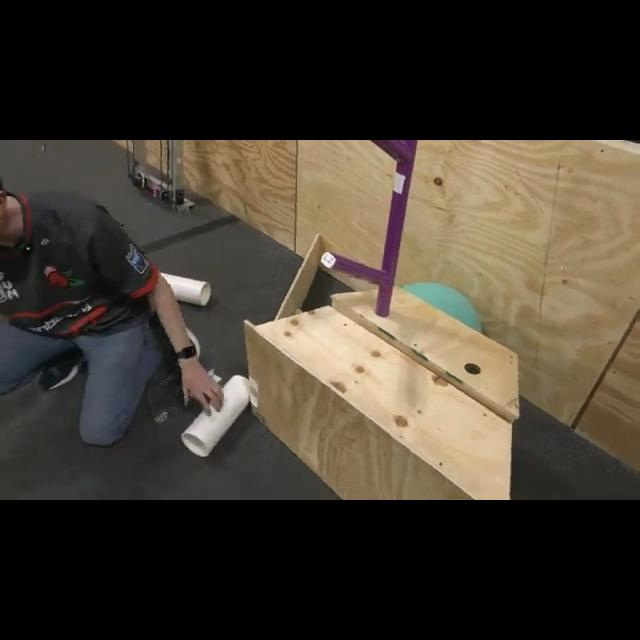CORAL: (179, 372, 251, 456), (154, 271, 212, 307)
